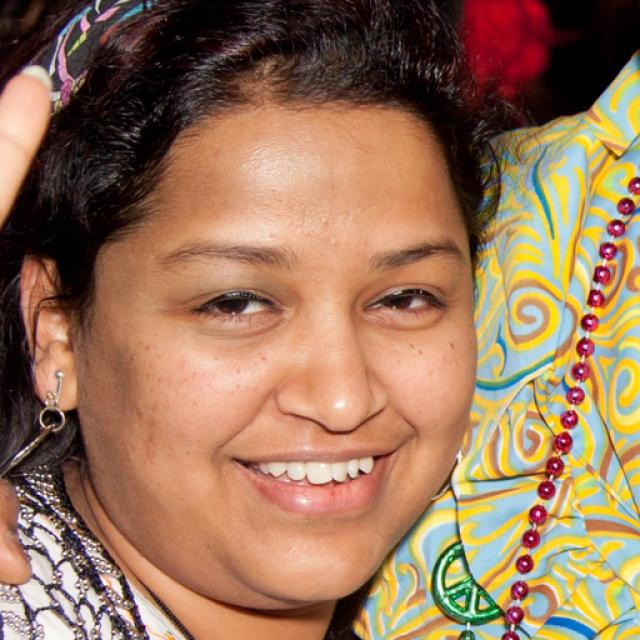Acne: (314, 213, 333, 231), (344, 206, 360, 225), (326, 233, 342, 248), (127, 349, 140, 366)
